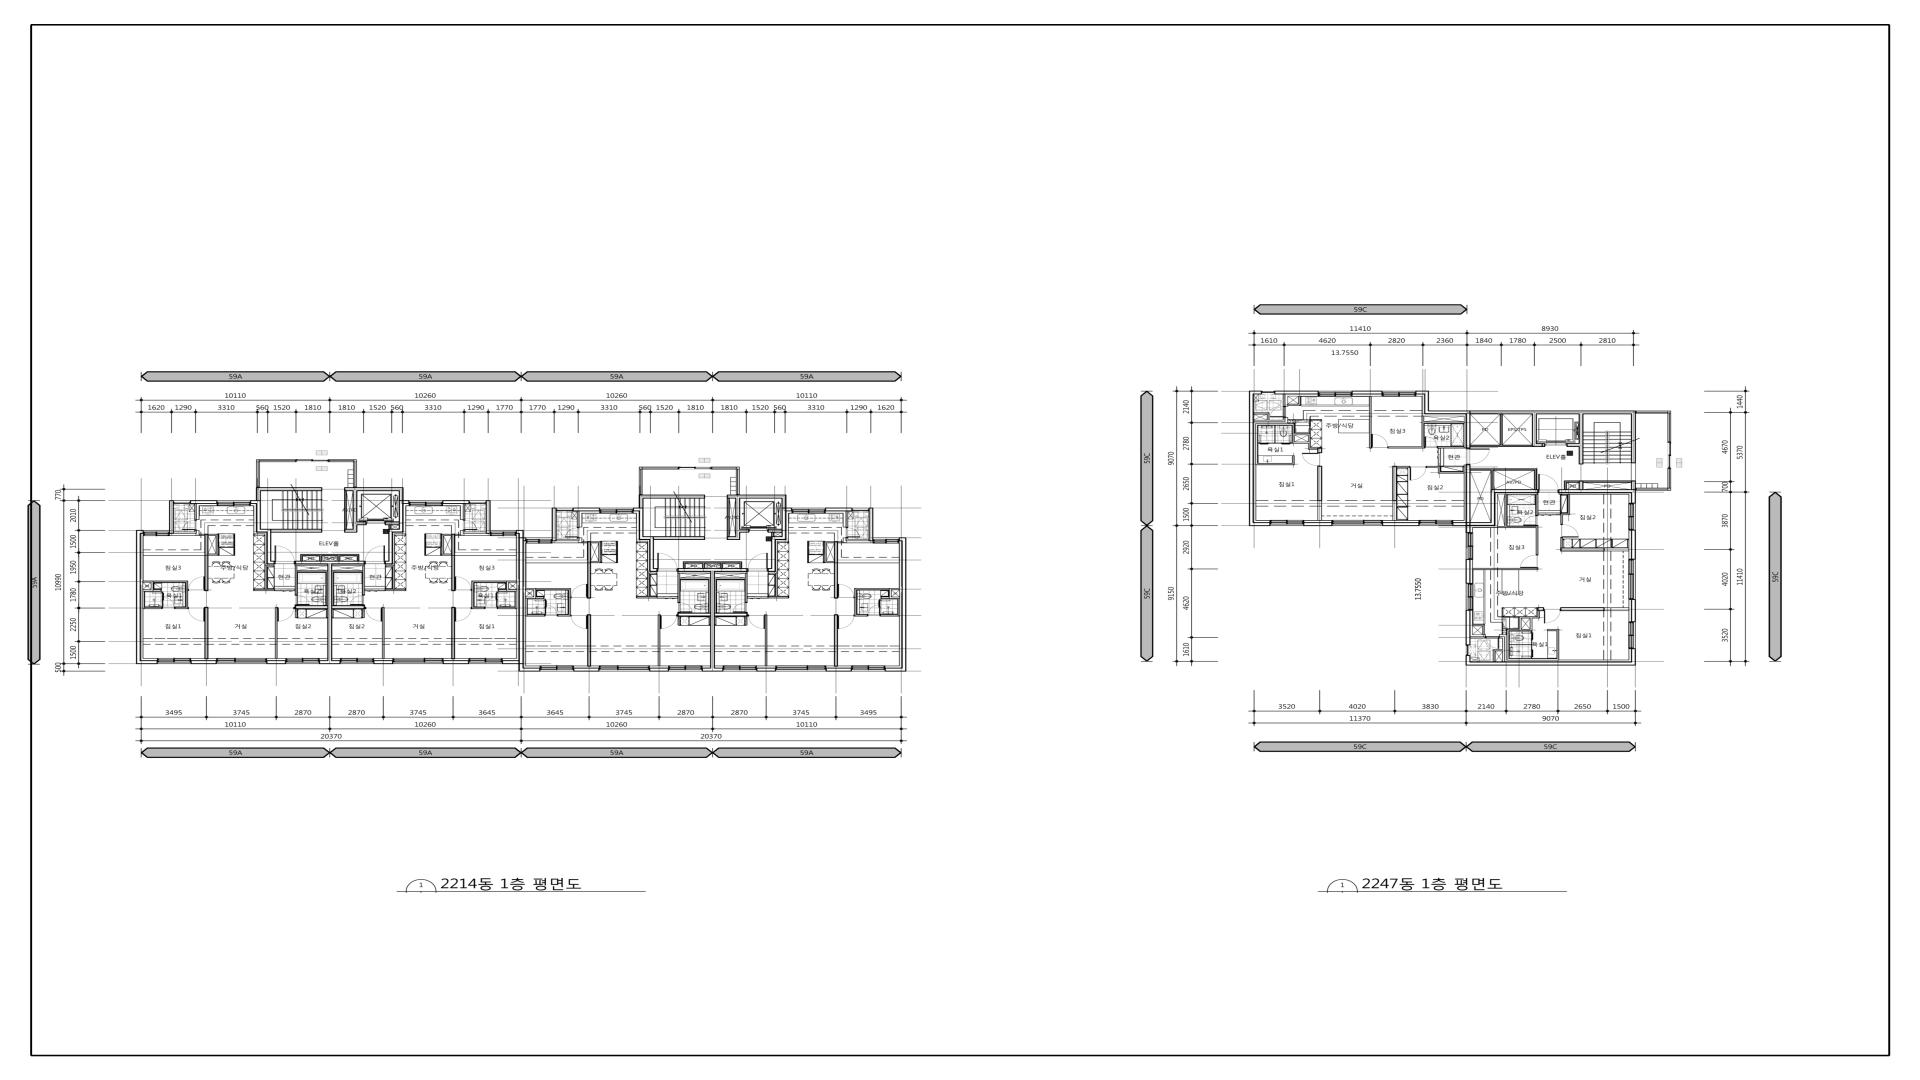door: (274, 545, 294, 564), (365, 545, 385, 564), (657, 553, 678, 571), (748, 553, 767, 571), (1539, 473, 1559, 491), (1469, 448, 1490, 464), (277, 607, 294, 622), (187, 607, 204, 622), (837, 584, 855, 599), (837, 615, 855, 629), (748, 615, 765, 629), (661, 615, 678, 629), (455, 607, 472, 621), (365, 607, 382, 621), (1410, 467, 1427, 481), (1302, 452, 1320, 465), (571, 615, 587, 629), (1544, 609, 1560, 624), (189, 576, 204, 591), (571, 584, 587, 599), (455, 576, 471, 591), (1520, 555, 1538, 568), (1371, 434, 1389, 447), (1561, 525, 1578, 537), (678, 601, 692, 613), (866, 605, 881, 617), (484, 597, 498, 609), (161, 597, 175, 609), (349, 595, 365, 605), (294, 595, 310, 605), (545, 605, 558, 617), (1486, 637, 1499, 649), (182, 520, 196, 530), (463, 520, 477, 530), (564, 527, 579, 538), (845, 527, 860, 538), (733, 603, 748, 613), (1523, 516, 1538, 526), (1270, 406, 1284, 417), (1425, 436, 1437, 447), (1520, 633, 1534, 641), (1520, 649, 1534, 657), (1259, 434, 1269, 444), (1280, 435, 1291, 444), (1437, 448, 1441, 465), (1539, 513, 1560, 516), (748, 596, 769, 599), (657, 596, 678, 599), (274, 588, 295, 591), (365, 588, 385, 591)
wall: (1416, 390, 1636, 464), (1465, 649, 1636, 666), (1249, 390, 1270, 526), (1453, 464, 1470, 533), (1559, 489, 1636, 504), (136, 534, 141, 661), (518, 538, 524, 663), (327, 564, 332, 661), (902, 541, 906, 667), (711, 572, 715, 667), (294, 560, 365, 564), (678, 568, 748, 572), (1560, 547, 1629, 551), (638, 495, 705, 498), (398, 487, 404, 533), (727, 495, 786, 498), (1561, 607, 1605, 612), (587, 541, 591, 599), (451, 534, 455, 591), (204, 534, 208, 591), (587, 615, 591, 667), (833, 615, 837, 667), (204, 607, 208, 659), (451, 607, 455, 659), (654, 537, 705, 541), (352, 491, 357, 529), (272, 529, 322, 533), (1490, 489, 1495, 526), (1317, 465, 1323, 501), (1465, 611, 1470, 645), (485, 500, 491, 534), (169, 500, 174, 534), (1470, 468, 1538, 471), (1274, 390, 1319, 394), (551, 508, 556, 541), (256, 488, 322, 491), (1495, 489, 1539, 493), (1567, 480, 1631, 483), (1470, 444, 1532, 447), (782, 498, 786, 539), (736, 498, 740, 539), (1631, 530, 1636, 559), (835, 541, 837, 599), (301, 554, 359, 556), (256, 504, 261, 533), (638, 512, 644, 539), (649, 541, 654, 568), (1382, 522, 1419, 526), (388, 533, 393, 560), (266, 533, 272, 560), (344, 488, 398, 491), (1393, 465, 1396, 501), (1369, 396, 1371, 448), (658, 615, 661, 666), (1636, 410, 1671, 414), (765, 615, 767, 666), (274, 607, 277, 658), (382, 607, 385, 658), (1499, 637, 1505, 662), (869, 508, 873, 541), (678, 613, 711, 617), (715, 613, 748, 617), (332, 605, 365, 609), (294, 605, 327, 609), (1631, 599, 1636, 622), (1499, 414, 1503, 444), (1352, 390, 1382, 394), (1556, 632, 1560, 661), (771, 541, 775, 568), (1304, 522, 1332, 526), (190, 500, 218, 504), (825, 508, 852, 512), (574, 508, 600, 512), (1424, 422, 1464, 425), (1255, 426, 1258, 465), (443, 661, 469, 665), (443, 500, 469, 504), (256, 459, 295, 462), (256, 462, 260, 488), (727, 498, 729, 537), (640, 467, 678, 469), (344, 491, 347, 529), (827, 667, 852, 671), (574, 667, 599, 671), (191, 661, 216, 665), (736, 469, 740, 495), (1255, 423, 1292, 426), (1317, 501, 1323, 520), (1258, 463, 1295, 465), (1466, 560, 1470, 584), (1605, 607, 1629, 611), (153, 580, 189, 583), (472, 580, 506, 583), (1636, 488, 1671, 491), (1422, 415, 1424, 448), (1473, 568, 1539, 570), (1389, 446, 1422, 448), (1505, 493, 1507, 526), (1535, 495, 1539, 516), (1470, 522, 1491, 526), (136, 661, 157, 665), (319, 661, 340, 665), (745, 572, 748, 603), (297, 570, 327, 572), (703, 667, 723, 671), (886, 667, 906, 671), (683, 562, 742, 563), (1667, 468, 1671, 488), (266, 661, 286, 665), (1254, 419, 1283, 422), (1668, 414, 1671, 443), (353, 459, 356, 488), (363, 566, 365, 595), (757, 667, 775, 671), (650, 667, 669, 671), (1490, 471, 1494, 489), (1308, 419, 1311, 447), (1393, 501, 1396, 520), (1534, 471, 1538, 489), (1536, 527, 1539, 555), (678, 574, 680, 601), (375, 661, 393, 665), (712, 467, 740, 469), (568, 589, 571, 616), (1437, 446, 1464, 448), (502, 661, 520, 665), (640, 469, 642, 495), (775, 572, 778, 596), (647, 572, 650, 596), (186, 583, 189, 607), (524, 667, 539, 671), (330, 459, 353, 462), (1510, 658, 1556, 659), (824, 541, 827, 563), (767, 529, 782, 533), (385, 521, 400, 525), (1568, 495, 1571, 516), (636, 596, 657, 599), (253, 588, 274, 591), (385, 588, 406, 591), (1498, 526, 1539, 527), (442, 535, 444, 555), (1292, 423, 1295, 443), (769, 596, 789, 599), (599, 543, 601, 563), (174, 531, 194, 534), (344, 529, 357, 533), (465, 531, 485, 534), (638, 498, 644, 508), (1631, 480, 1636, 489), (142, 591, 145, 609), (256, 491, 261, 500), (535, 588, 571, 589), (525, 599, 527, 616), (855, 588, 889, 589), (498, 607, 516, 609), (709, 579, 711, 613), (715, 579, 716, 613), (332, 571, 334, 605), (771, 537, 782, 541), (633, 508, 644, 512), (644, 537, 654, 541), (845, 512, 848, 527), (145, 607, 161, 609), (194, 504, 196, 520), (389, 529, 400, 533), (251, 500, 261, 504), (261, 529, 272, 533), (463, 504, 465, 520), (518, 663, 524, 671), (332, 570, 363, 571), (680, 578, 711, 579), (715, 578, 745, 579), (1287, 404, 1302, 406), (1427, 465, 1441, 468), (1509, 630, 1510, 659), (295, 566, 297, 595), (740, 529, 749, 533), (357, 521, 367, 525), (727, 537, 736, 541), (1472, 624, 1485, 626), (1295, 433, 1308, 435), (1547, 629, 1560, 632), (1578, 483, 1584, 489), (1317, 447, 1323, 454), (1396, 465, 1410, 468), (1507, 629, 1532, 630), (855, 589, 856, 615), (767, 568, 775, 572), (649, 568, 657, 572), (516, 530, 524, 534), (472, 583, 473, 607), (472, 607, 484, 609), (1298, 396, 1302, 404), (1519, 617, 1522, 629), (1283, 394, 1286, 406), (175, 607, 187, 609), (385, 560, 393, 564), (266, 560, 274, 564), (136, 530, 144, 534), (393, 566, 394, 589), (1441, 472, 1464, 473), (265, 566, 266, 588), (556, 539, 579, 541), (506, 580, 517, 583), (1493, 649, 1503, 651), (1493, 651, 1495, 662), (1530, 618, 1532, 629), (848, 539, 869, 541), (591, 541, 601, 543), (216, 534, 218, 555), (142, 580, 153, 583), (899, 538, 906, 542), (1538, 607, 1544, 611), (1560, 538, 1563, 547), (1564, 480, 1567, 489), (1308, 447, 1317, 450), (1522, 617, 1540, 618), (1560, 516, 1563, 525), (889, 589, 891, 599), (516, 591, 517, 609), (527, 615, 545, 616), (1274, 426, 1275, 443), (881, 615, 898, 616), (898, 599, 899, 616), (786, 508, 791, 512), (518, 534, 524, 538), (578, 512, 579, 527), (506, 583, 509, 591), (1437, 468, 1441, 473), (1482, 626, 1485, 634), (1560, 513, 1568, 516), (1470, 637, 1486, 638), (1503, 616, 1519, 617), (1292, 455, 1295, 463), (827, 560, 835, 563), (827, 541, 835, 543), (591, 560, 599, 563), (745, 617, 748, 625), (404, 500, 409, 504), (1294, 442, 1308, 443), (1267, 413, 1270, 419), (1254, 413, 1267, 414), (1538, 611, 1540, 617), (837, 541, 844, 543), (150, 583, 153, 589), (1311, 419, 1323, 421), (855, 615, 866, 616), (253, 534, 265, 535), (394, 534, 406, 535), (525, 588, 535, 589), (525, 597, 535, 599), (558, 615, 568, 616), (740, 563, 742, 568), (720, 563, 723, 568), (702, 563, 704, 568), (683, 563, 686, 568), (1283, 417, 1286, 422), (889, 588, 899, 589), (582, 541, 587, 543), (142, 589, 153, 591), (442, 534, 451, 535), (1502, 608, 1503, 617), (363, 609, 364, 618), (295, 609, 297, 618), (534, 589, 535, 597), (535, 597, 543, 599), (678, 617, 679, 625), (509, 589, 517, 591), (498, 589, 506, 591), (463, 530, 465, 534), (1531, 641, 1532, 649), (1497, 493, 1505, 495), (891, 597, 899, 599), (881, 597, 889, 599), (153, 589, 161, 591), (338, 556, 340, 560), (319, 556, 322, 560), (301, 556, 303, 560), (771, 533, 774, 537), (389, 525, 392, 529), (266, 566, 274, 567), (208, 554, 216, 555), (208, 534, 216, 535), (194, 530, 196, 534), (385, 566, 393, 567), (444, 554, 451, 555), (769, 572, 775, 574), (650, 572, 657, 574), (455, 534, 460, 535), (845, 538, 848, 541), (199, 534, 204, 535), (524, 538, 526, 541), (357, 556, 359, 560), (578, 538, 579, 539), (1269, 443, 1280, 443), (1510, 645, 1531, 645), (327, 572, 327, 605)
window: (1332, 520, 1382, 526), (393, 658, 443, 665), (216, 658, 266, 665), (1629, 559, 1636, 599), (775, 666, 827, 671), (599, 666, 650, 671), (409, 500, 443, 506), (1270, 520, 1304, 526), (1382, 390, 1416, 397), (1419, 520, 1453, 526), (218, 500, 251, 506), (1319, 390, 1352, 397), (286, 658, 319, 665), (1629, 622, 1636, 649), (1629, 504, 1636, 530), (1466, 533, 1473, 560), (157, 658, 191, 663), (340, 658, 375, 663), (468, 658, 502, 663), (539, 666, 574, 671), (669, 666, 703, 671), (723, 666, 757, 671), (791, 508, 825, 513), (1466, 584, 1473, 611), (852, 666, 885, 671), (600, 508, 633, 513), (144, 530, 169, 537), (526, 538, 553, 543), (873, 538, 899, 543), (491, 530, 516, 535), (1667, 443, 1671, 468), (678, 467, 712, 469), (295, 459, 330, 462), (556, 508, 574, 512), (852, 508, 869, 512), (174, 500, 190, 504), (469, 500, 485, 504), (1465, 645, 1470, 655), (1262, 390, 1274, 394)
